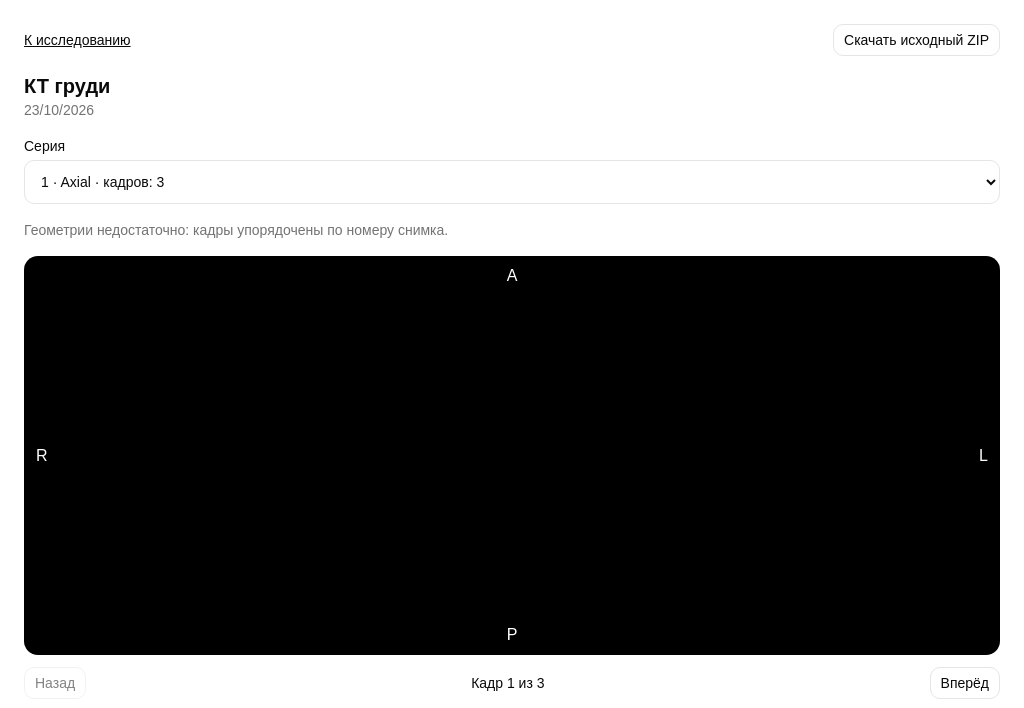
shows study errors and download failures
Click the button "Скачать исходный ZIP": click(916, 40) top-left (833, 24), bottom-right (1000, 56)
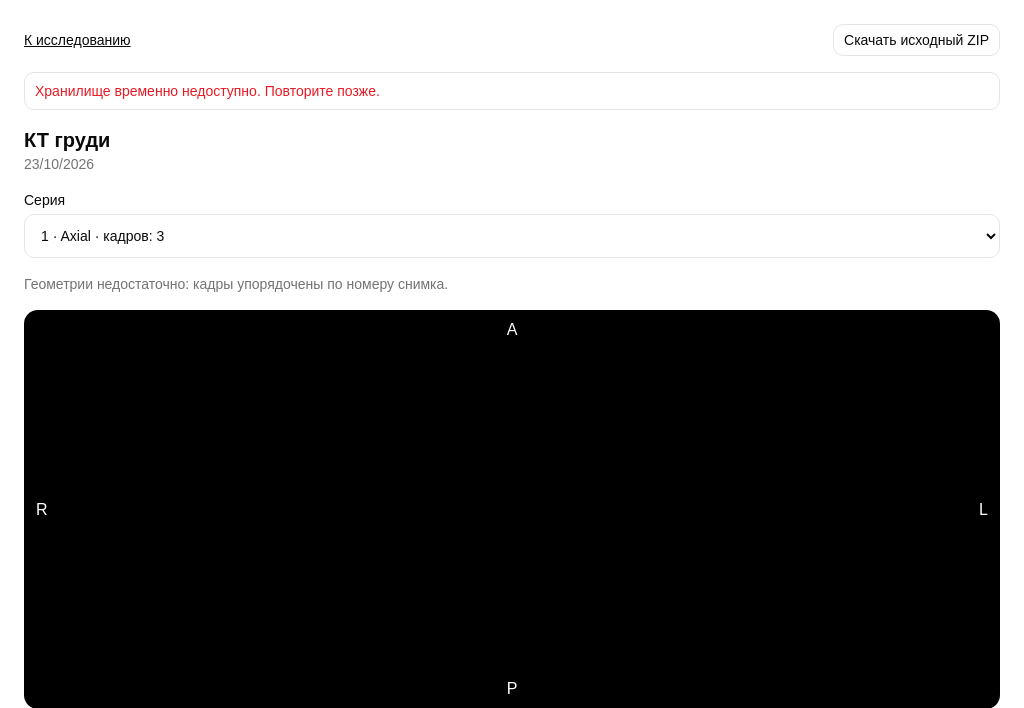
Check: the message "Хранилище временно недоступно. Повторите позже." is shown, box top-left (24, 72), bottom-right (1000, 110)
